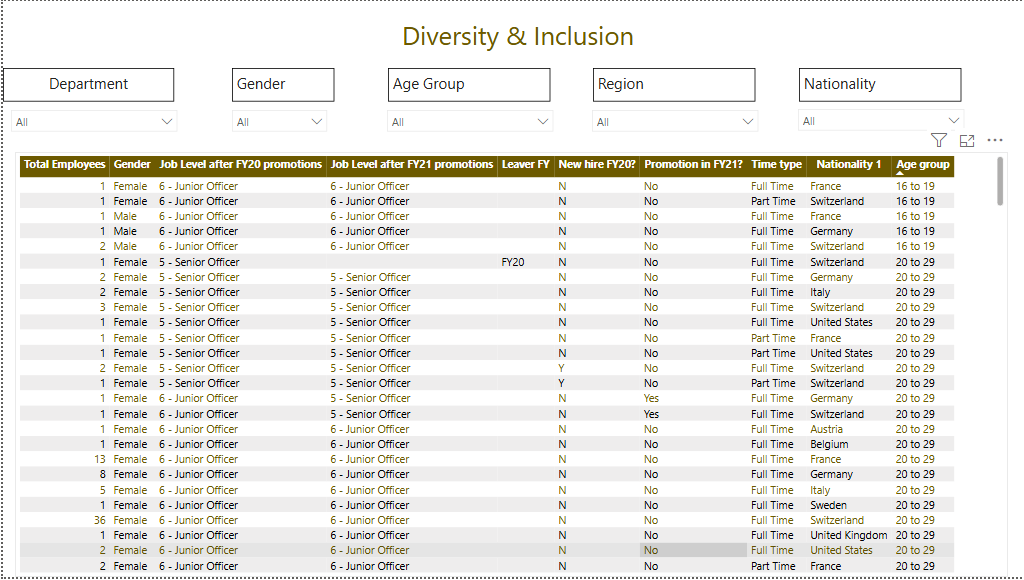

What the dashboard file says about the page in this screenshot:
{"tool":"powerbi","page":{"name":"Employee Details","canvas":[1280,720],"ordinal":2},"visuals":[{"type":"textbox","box":[10.2,0,1269.8,63.6],"z":0},{"type":"textbox","box":[8.9,15.3,1269.8,68.6],"z":1000},{"type":"slicer","fields":{"Values":["Pharma Group AG.Department @01.07.2020"]},"box":[0,125.8,227.5,41.9],"z":2000},{"type":"textbox","box":[0,83.9,213.5,41.9],"z":3000},{"type":"slicer","fields":{"Values":["Pharma Group AG.Gender"]},"box":[275.8,125.8,138.6,52.1],"z":4000},{"type":"textbox","box":[286,83.9,128.4,41.9],"z":5000},{"type":"slicer","fields":{"Values":["Pharma Group AG.Age group"]},"box":[470.3,125.8,227.5,41.9],"z":6000},{"type":"textbox","box":[481.7,83.9,203.4,41.9],"z":7000},{"type":"slicer","fields":{"Values":["Pharma Group AG.Region group: nationality 1"]},"box":[725.6,125.7,227.5,41.9],"z":8000},{"type":"textbox","box":[737.1,83.7,203.4,41.9],"z":9000},{"type":"slicer","fields":{"Values":["Pharma Group AG.Nationality 1"]},"box":[983.5,125.5,227.5,41.9],"z":10000},{"type":"textbox","box":[994.9,83.6,203.4,41.9],"z":11000},{"type":"tableEx","fields":{"Values":["1_Measures.Total Employees","Pharma Group AG.Gender","Pharma Group AG.Job Level after FY20 promotions","Pharma Group AG.Job Level after FY21 promotions","Pharma Group AG.Leaver FY","Pharma Group AG.New hire FY20?","Pharma Group AG.Promotion in FY21?","Pharma Group AG.Time type","Pharma Group AG.Nationality 1","Pharma Group AG.Age group"]},"box":[15,188.9,1241.2,530.5],"z":11001}]}

Visuals, with their boxes in screenshot pixels (x1, y1, x2, y2), scaled from the page's 1280x720 canvas onto the 1024x580 screenshot:
textbox: left=8, top=0, right=1023, bottom=51
textbox: left=7, top=12, right=1023, bottom=68
slicer - Pharma Group AG.Department @01.07.2020: left=0, top=101, right=182, bottom=135
textbox: left=0, top=68, right=171, bottom=101
slicer - Pharma Group AG.Gender: left=221, top=101, right=332, bottom=143
textbox: left=229, top=68, right=332, bottom=101
slicer - Pharma Group AG.Age group: left=376, top=101, right=558, bottom=135
textbox: left=385, top=68, right=548, bottom=101
slicer - Pharma Group AG.Region group: nationality 1: left=580, top=101, right=762, bottom=135
textbox: left=590, top=67, right=752, bottom=101
slicer - Pharma Group AG.Nationality 1: left=787, top=101, right=969, bottom=135
textbox: left=796, top=67, right=959, bottom=101
tableEx - 1_Measures.Total Employees x Pharma Group AG.Gender: left=12, top=152, right=1005, bottom=579
